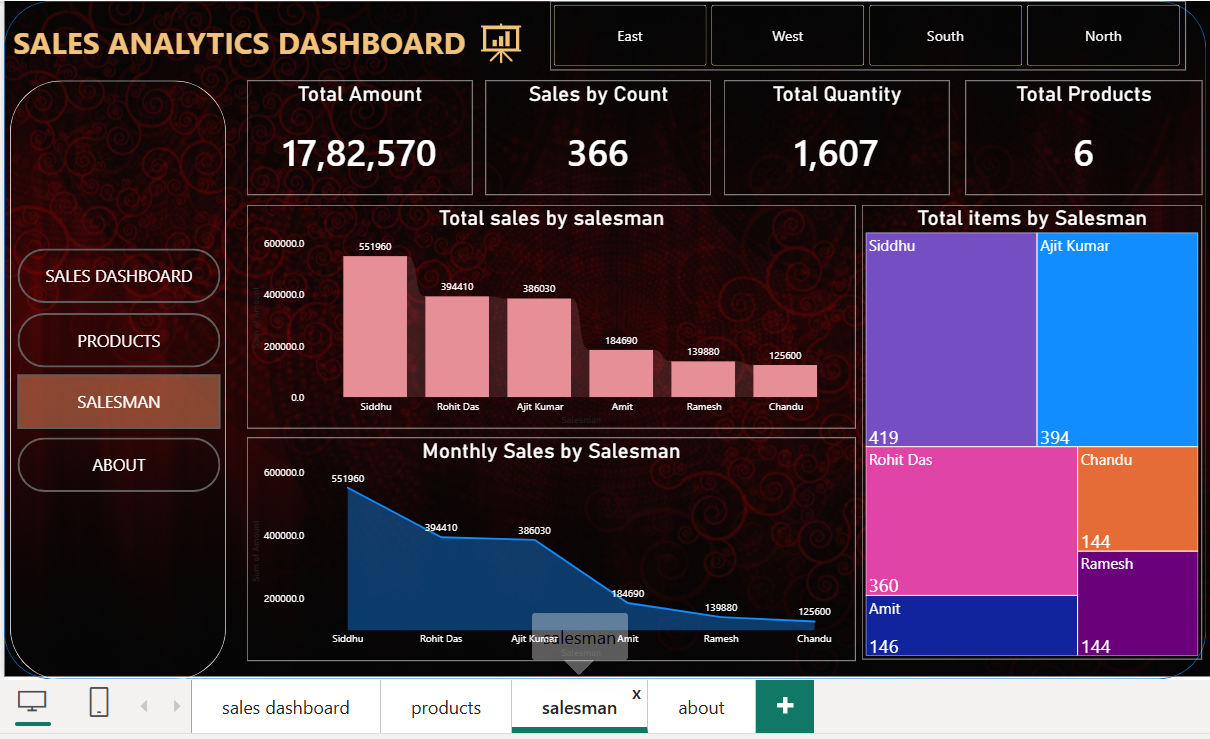

What the dashboard file says about the page in this screenshot:
{"tool":"powerbi","page":{"name":"salesman","canvas":[1920,1080],"ordinal":2},"visuals":[{"type":"shape","box":[0,0,1912.1,1078.5],"z":0},{"type":"shape","box":[9,125.5,343.6,953],"z":1000},{"type":"cardVisual","title":"Total Amount","fields":{"Data":["data.Total Sales"]},"box":[385.4,125.5,358.5,182.2],"z":2000},{"type":"cardVisual","title":"Sales  by Count","fields":{"Data":["data.Total"]},"box":[764.8,125.5,358.5,182.2],"z":3000},{"type":"cardVisual","title":"Total Quantity","fields":{"Data":["data.Total quantity"]},"box":[1144.3,125.5,358.5,182.2],"z":4000},{"type":"cardVisual","title":"Total Products","fields":{"Data":["data.Total Items"]},"box":[1529.7,125.5,376.4,182.2],"z":5000},{"type":"columnChart","title":"Total sales by  salesman","fields":{"Y":["Sum(data.Amount)"],"Category":["data.Salesman"]},"box":[385.4,325.6,968,355.5],"z":6000},{"type":"treemap","title":"Total items by Salesman","fields":{"Group":["data.Salesman"],"Values":["Sum(data.Qty)"]},"box":[1365.3,325.6,540.8,723],"z":7000},{"type":"lineChart","title":"Monthly Sales  by Salesman","fields":{"Category":["data.Salesman"],"Y":["Sum(data.Amount)"]},"box":[385.4,693.1,968,355.5],"z":8000},{"type":"actionButton","box":[20.9,394.4,322.7,86.6],"z":9000},{"type":"actionButton","box":[20.9,495.9,322.7,86.6],"z":10000},{"type":"actionButton","box":[20.9,594.5,322.7,86.6],"z":11000},{"type":"actionButton","box":[20.9,693.1,322.7,86.6],"z":12000},{"type":"textbox","box":[9.5,26.2,935.3,100.2],"z":13000},{"type":"image","box":[713.4,26.2,155.1,81.1],"z":14000},{"type":"advancedSlicerVisual","title":"Total Sales by Region","fields":{"Values":["data.Region"]},"box":[868.5,0,1011.6,109.8],"z":15000}]}

Visuals, with their boxes on the page's 1920x1080 design canvas (x1, y1, x2, y2). These are canvas units, not pixel positions in the 1210x739 screenshot, which may show the page scaled, cropped or inside an application window:
shape: <box>0,0,1912,1078</box>
shape: <box>9,126,353,1078</box>
"Total Amount" cardVisual: <box>385,126,744,308</box>
"Sales  by Count" cardVisual: <box>765,126,1123,308</box>
"Total Quantity" cardVisual: <box>1144,126,1503,308</box>
"Total Products" cardVisual: <box>1530,126,1906,308</box>
"Total sales by  salesman" columnChart: <box>385,326,1353,681</box>
"Total items by Salesman" treemap: <box>1365,326,1906,1049</box>
"Monthly Sales  by Salesman" lineChart: <box>385,693,1353,1049</box>
actionButton: <box>21,394,344,481</box>
actionButton: <box>21,496,344,582</box>
actionButton: <box>21,594,344,681</box>
actionButton: <box>21,693,344,780</box>
textbox: <box>10,26,945,126</box>
image: <box>713,26,868,107</box>
"Total Sales by Region" advancedSlicerVisual: <box>868,0,1880,110</box>
